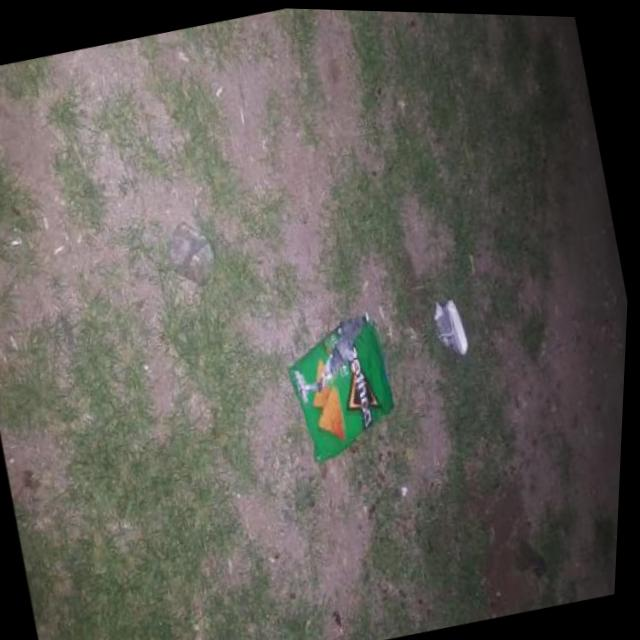cardboard: (273, 451, 336, 493)
plastic: (165, 298, 332, 431)
